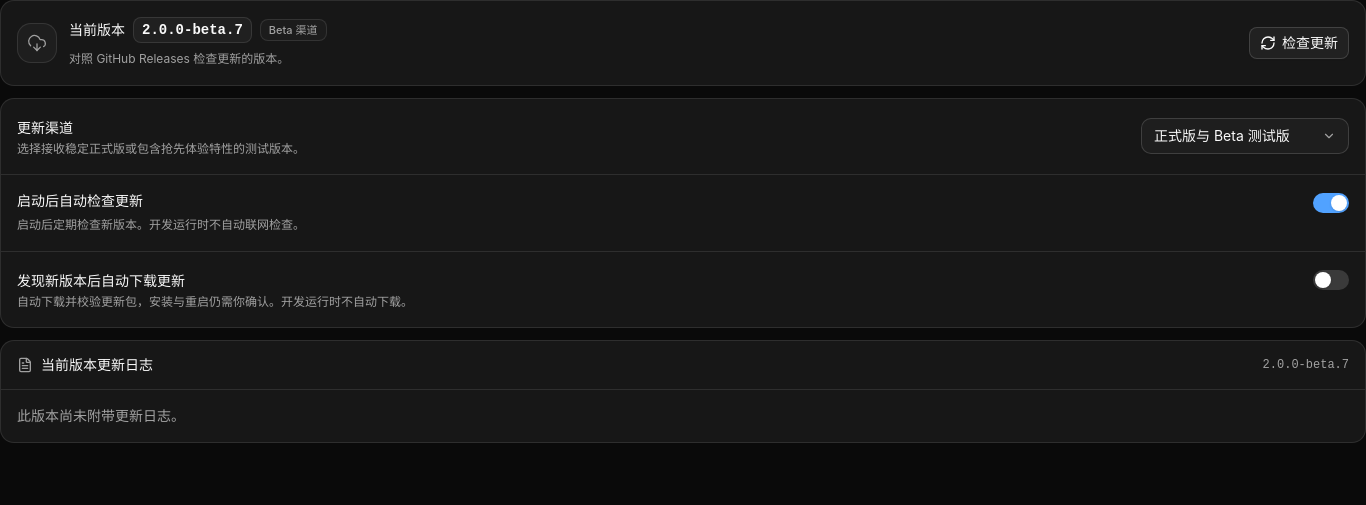
it: 自动下载保存失败反馈错误并保持关闭
This screenshot has width=1366, height=505.
Click the switch named "发现新版本后自动下载更新" at coordinates (1331, 280), box [1313,270,1349,290]
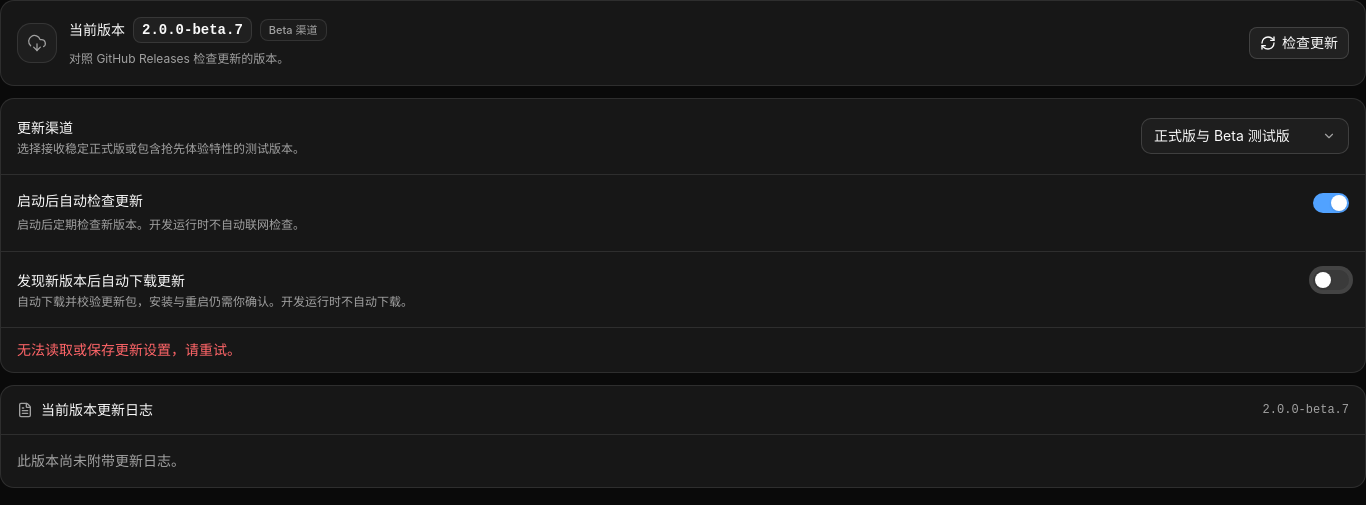
Result: the message reads "无法读取或保存更新设置，请重试。" at [17,341,241,358]
